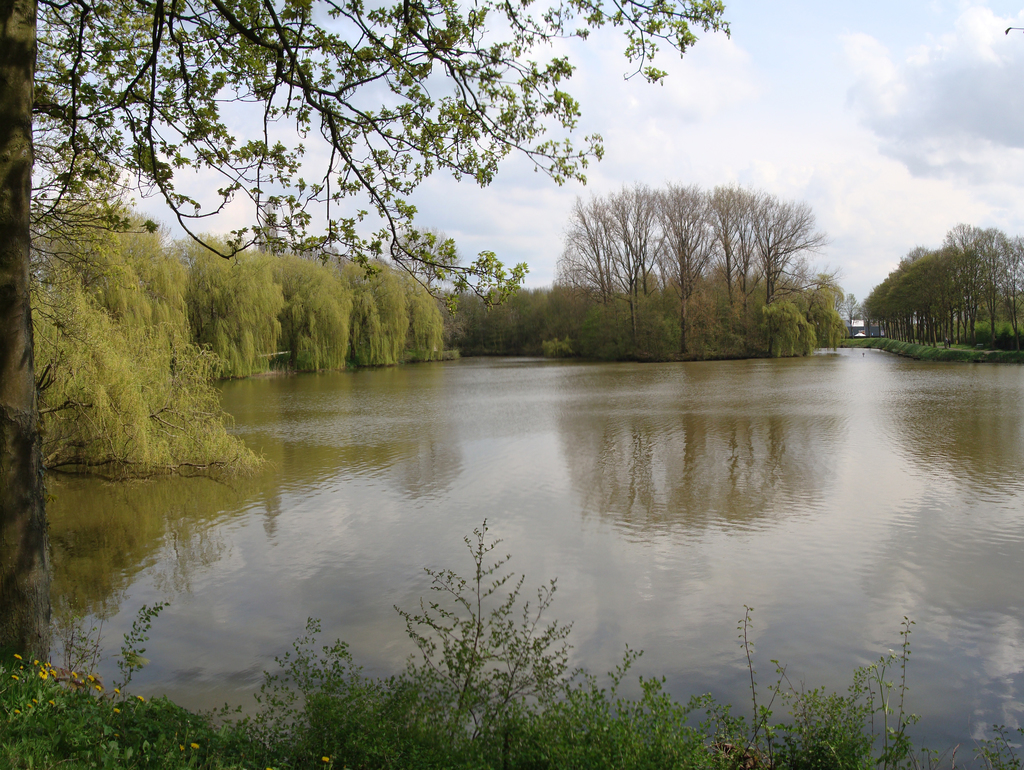Tree: (0, 0, 729, 669), (31, 182, 846, 470), (864, 223, 1024, 353), (840, 295, 866, 337)
